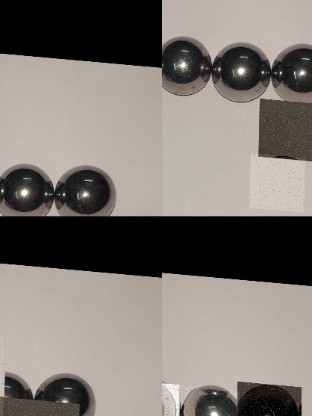ironball: (215, 39, 272, 106), (53, 164, 118, 218), (0, 161, 57, 216), (160, 30, 207, 94), (29, 368, 92, 413), (237, 378, 302, 415), (274, 43, 310, 98), (184, 385, 240, 415), (0, 363, 35, 404), (160, 381, 177, 416)
